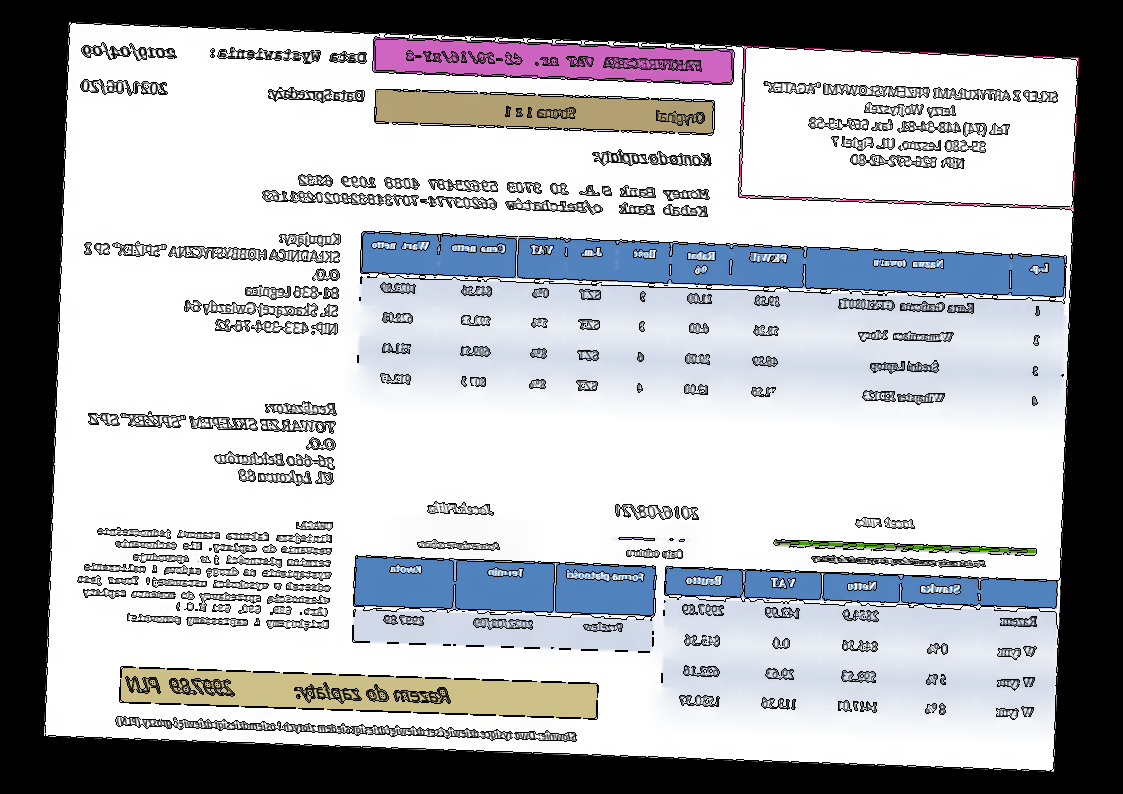Table: (354, 229, 1068, 422), (659, 564, 1060, 733), (351, 553, 658, 653)
TextBox: (76, 220, 344, 341), (73, 510, 336, 632), (758, 76, 1063, 176), (83, 391, 340, 489), (261, 170, 713, 220), (113, 712, 580, 747), (124, 672, 455, 708), (402, 47, 705, 74), (501, 100, 708, 129), (810, 550, 988, 573), (209, 43, 370, 67), (590, 144, 716, 172), (266, 82, 368, 107), (613, 500, 704, 525), (78, 42, 180, 64), (81, 76, 170, 100), (424, 497, 498, 519), (414, 536, 504, 554), (852, 513, 918, 533), (625, 545, 685, 561)
